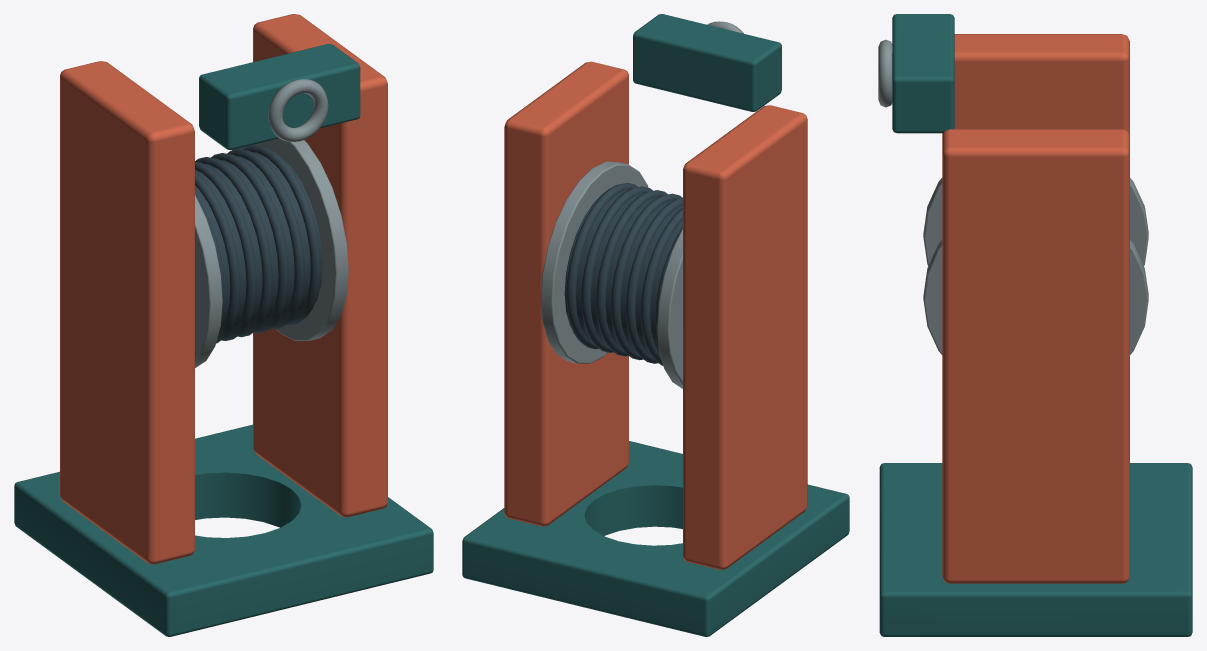
File: winch-lod-0.glb
The picture shows the model from 3 angles, left to right: view 1: azimuth 30°, elevation 25°; view 2: azimuth 150°, elevation 25°; view 3: azimuth 270°, elevation 25°; orthographic projection. The views are drawn at different scales.
Visible parts, largest first — view 1: winch_lod_0; view 2: winch_lod_0; view 3: winch_lod_0.
Part boxes in pixels (x1,y1,x2,y2): winch_lod_0: [14, 14, 433, 636]; winch_lod_0: [462, 14, 849, 636]; winch_lod_0: [878, 14, 1192, 636].
Bounding box in the file's own units: 1 × 1.87 × 1.
